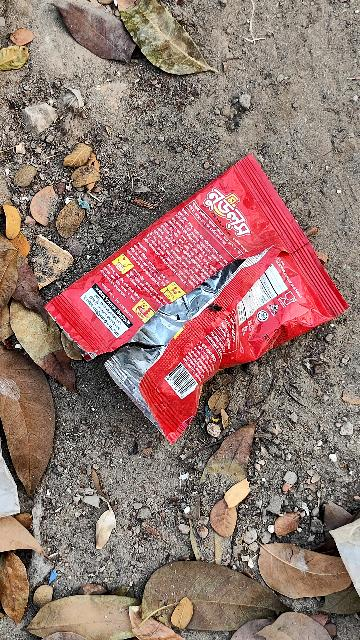packet: (45, 146, 360, 456)
